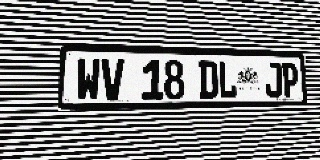1: (142, 59, 163, 100)
8: (164, 60, 185, 99)
D: (198, 60, 218, 99)
J: (265, 62, 282, 98)
L: (218, 61, 237, 98)
P: (282, 62, 298, 97)
V: (101, 58, 124, 101)
W: (76, 58, 100, 101)
